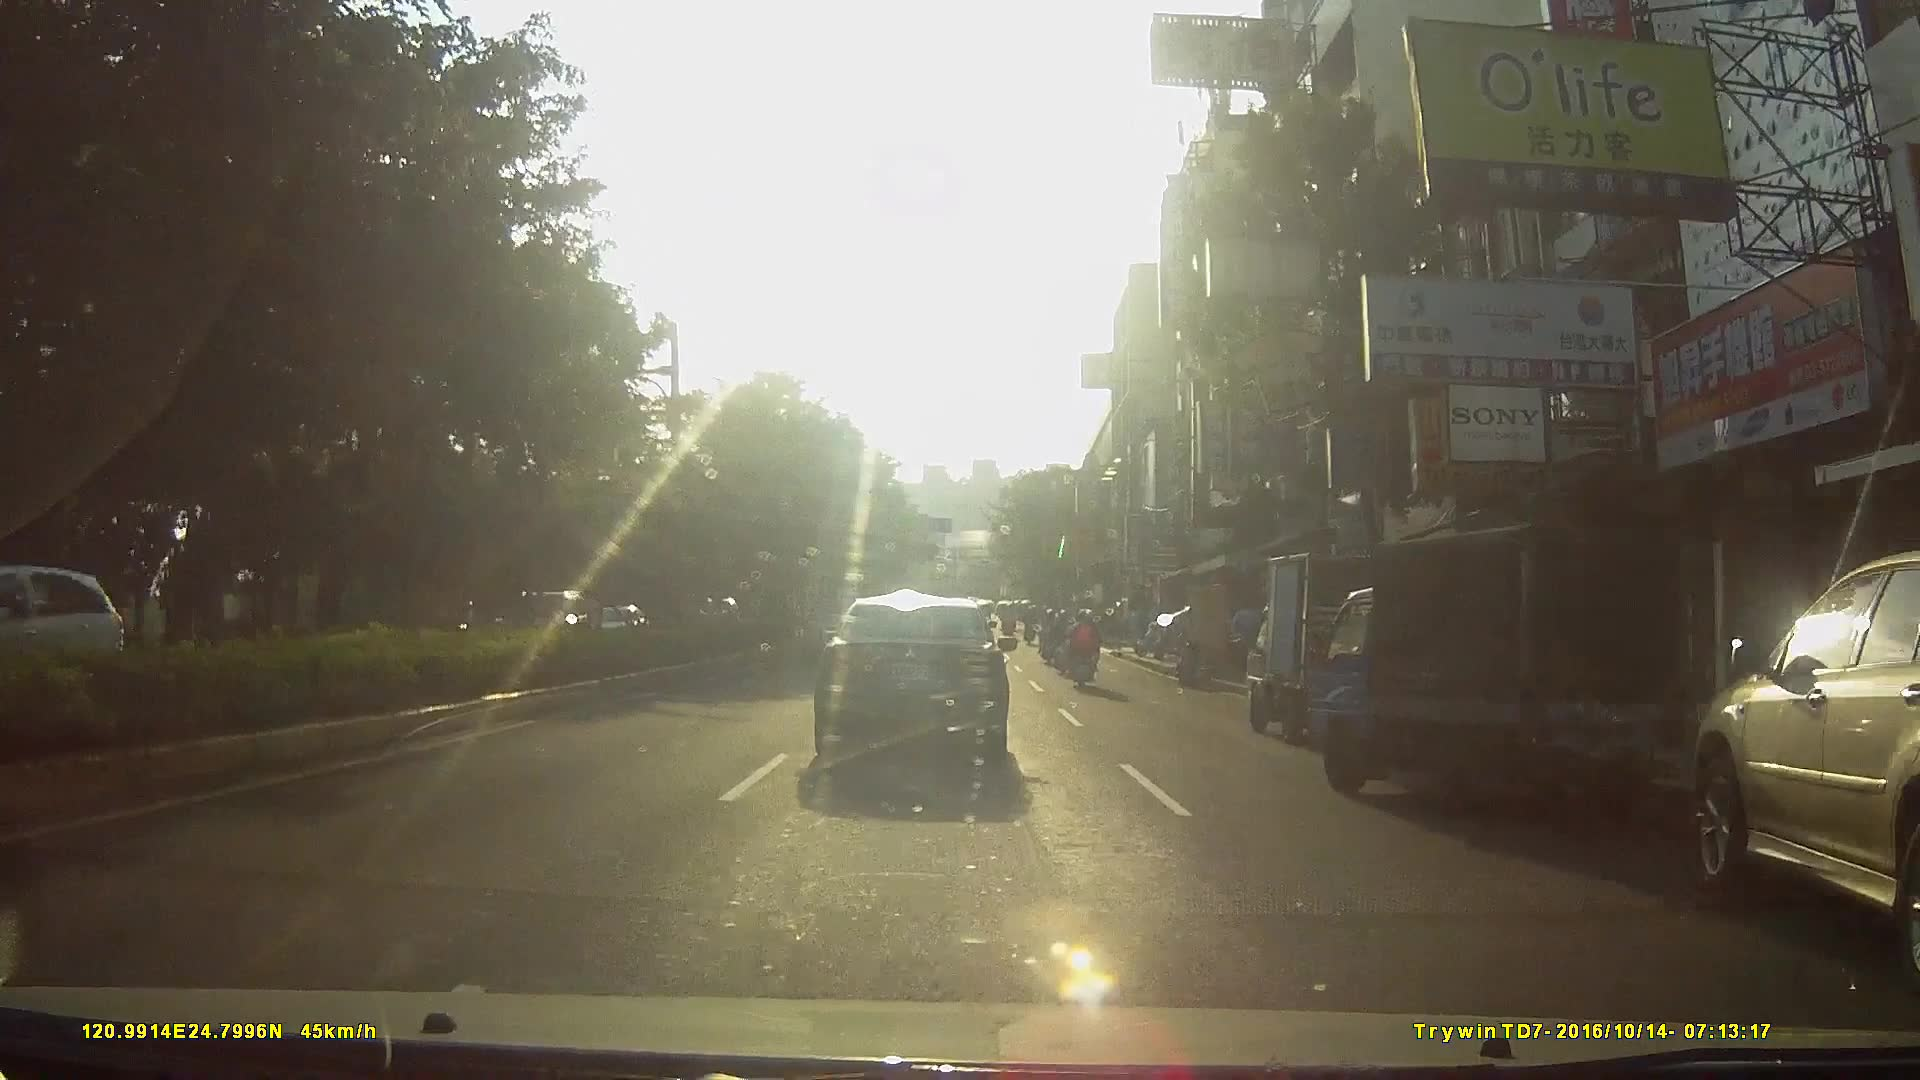rider: (1061, 607, 1104, 695), (1040, 606, 1061, 663)
vehicle: (1309, 504, 1739, 835), (1678, 555, 1920, 977), (1234, 539, 1466, 749), (812, 588, 1032, 781), (1, 562, 139, 690)
